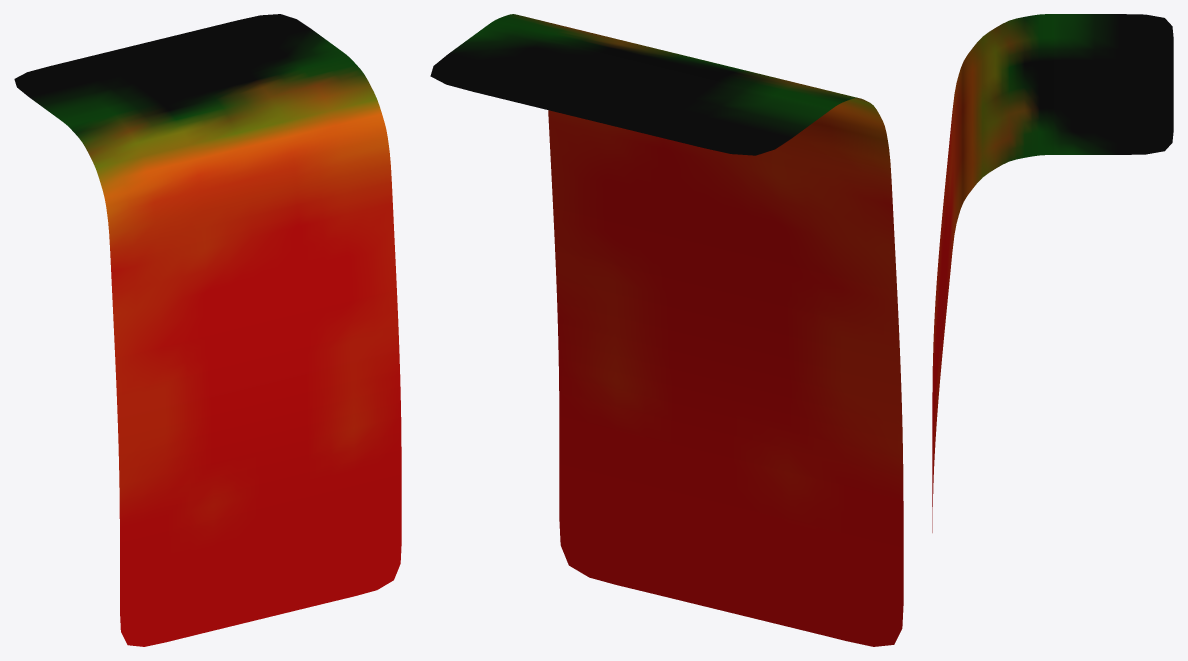
The model's file is FXWaterfall01.fbx.
3 renders of one model, left to right at view 1: azimuth 30°, elevation 25°; view 2: azimuth 150°, elevation 25°; view 3: azimuth 270°, elevation 25°, orthographic. The views are drawn at different scales.
Parts seen in each view (by area): view 1: FXWaterfall01_LOD0; view 2: FXWaterfall01_LOD0; view 3: FXWaterfall01_LOD0.
Part boxes in pixels (x1,y1,x2,y2): FXWaterfall01_LOD0: [14, 14, 401, 646]; FXWaterfall01_LOD0: [430, 14, 903, 646]; FXWaterfall01_LOD0: [932, 14, 1173, 532].
Size of what is drawn, in the model's own units: 600 by 997 by 434.
